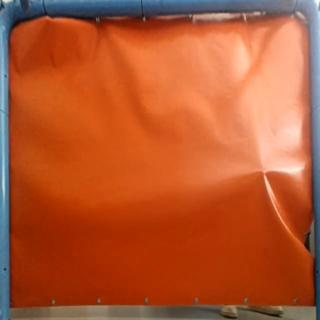Hit-hRxx: (257, 164, 273, 178)
